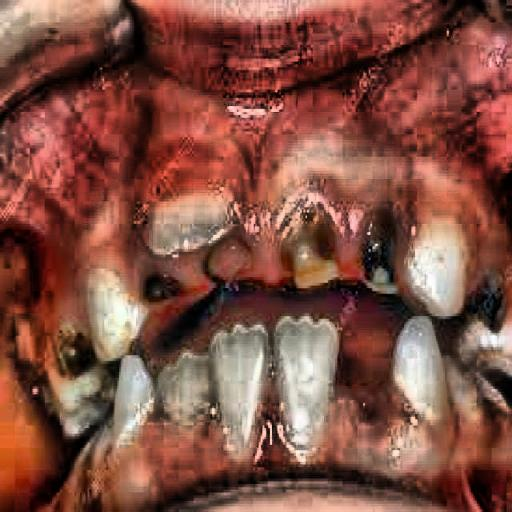Caries: (132, 213, 410, 314), (419, 194, 512, 397), (28, 254, 130, 435)
